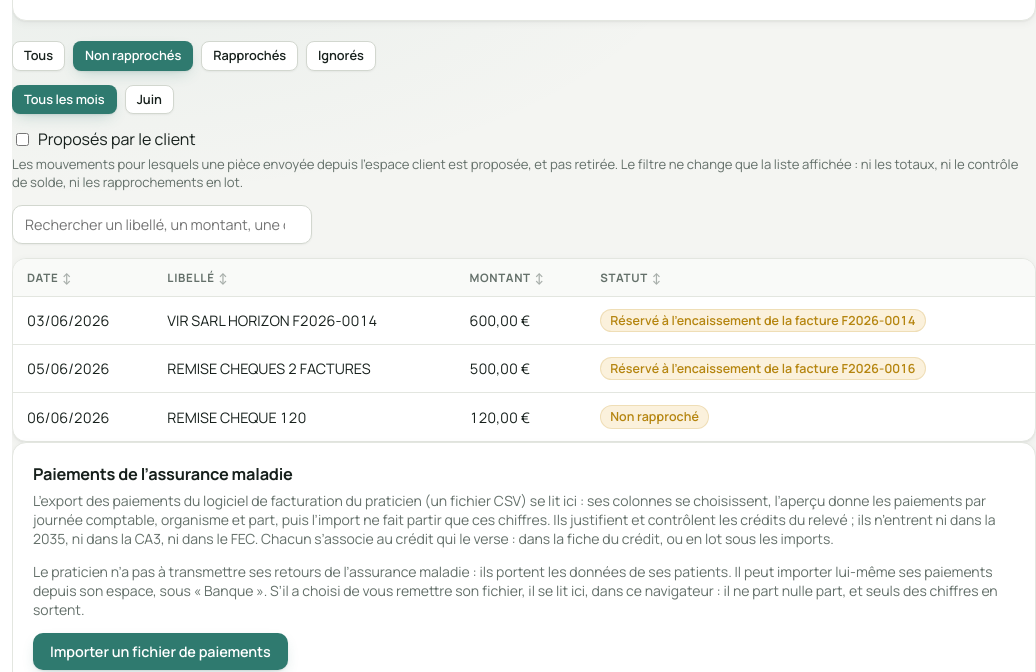
Scenario: rattacher un encaissement enregistré sans mouvement › sur la remise : le chèque qui la fait, la confirmation et l’état d’après, l’appel ; relue, elle se classe
The width and height of the screenshot is (1036, 672).
(page scrolled)
Click the row that starts with "REMISE CHEQUES 2 FACTURES": (524, 369) [13,344,1035,393]
(page scrolled)
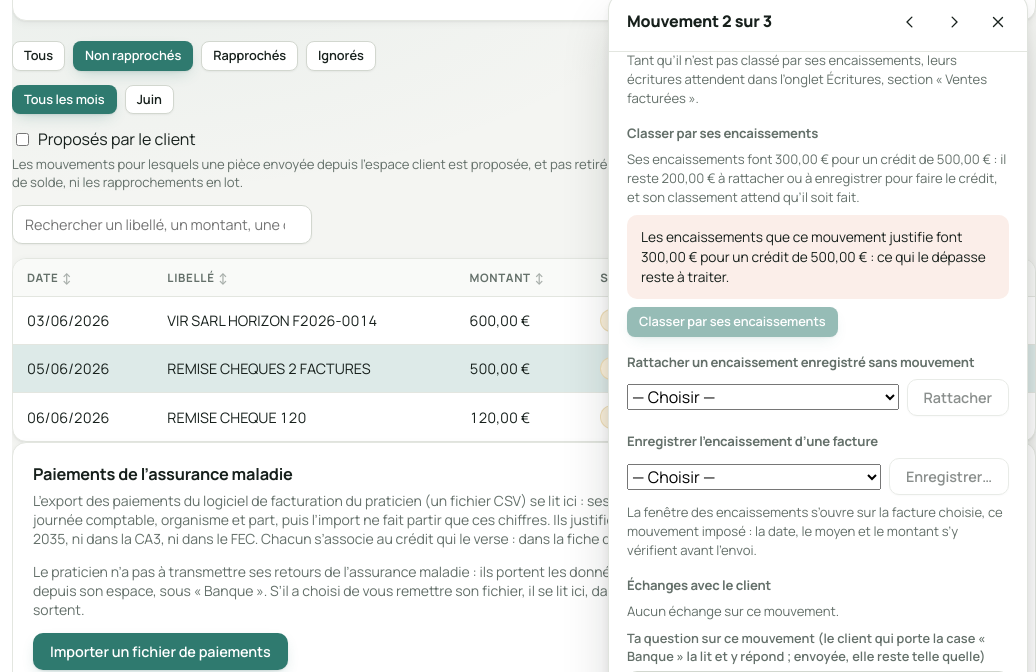
Select "Facture F2026-0018 (Cabinet Rivière) — chèque du 02/06/2026 · 200,00 €" in the dropdown named "Encaissement à rattacher": (763, 397) [627,384,898,410]
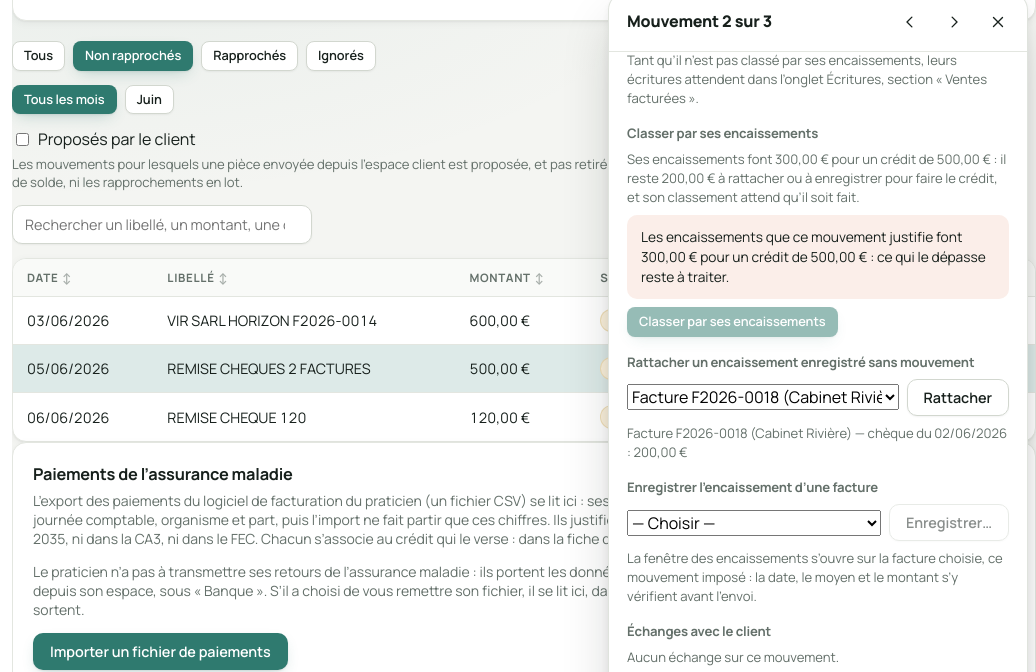
Click the button "Rattacher": (958, 397) [906,379,1009,416]
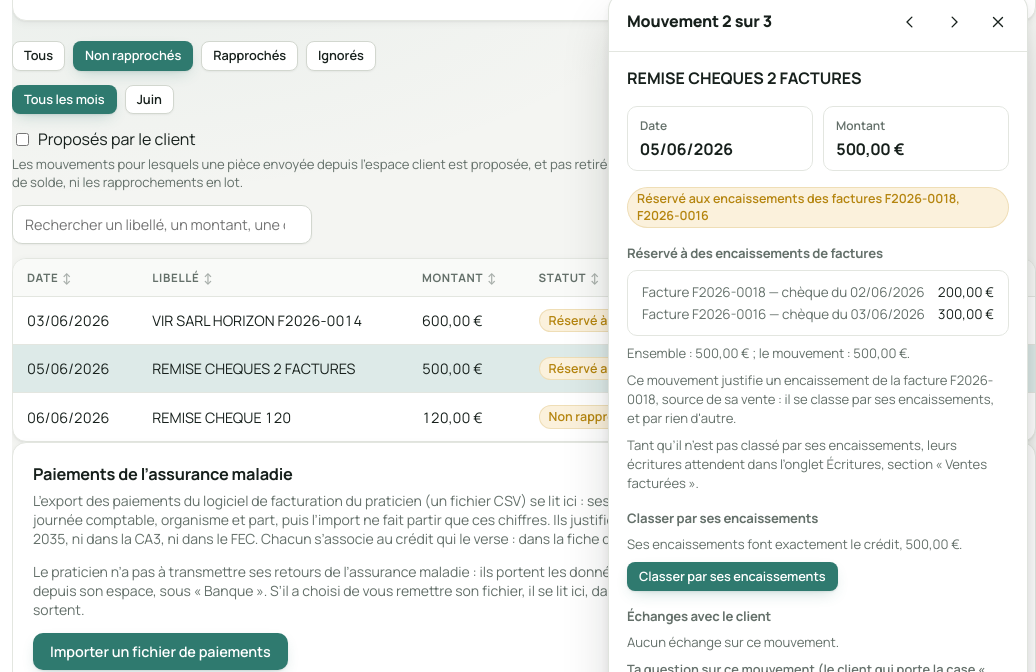
Now the button "Classer par ses encaissements" is enabled, box [627,562,838,591]
Now the element "Classer par ses encaissements" shows "Ses encaissements font exactement le crédit, 500,00 €.", box [627,535,962,553]
